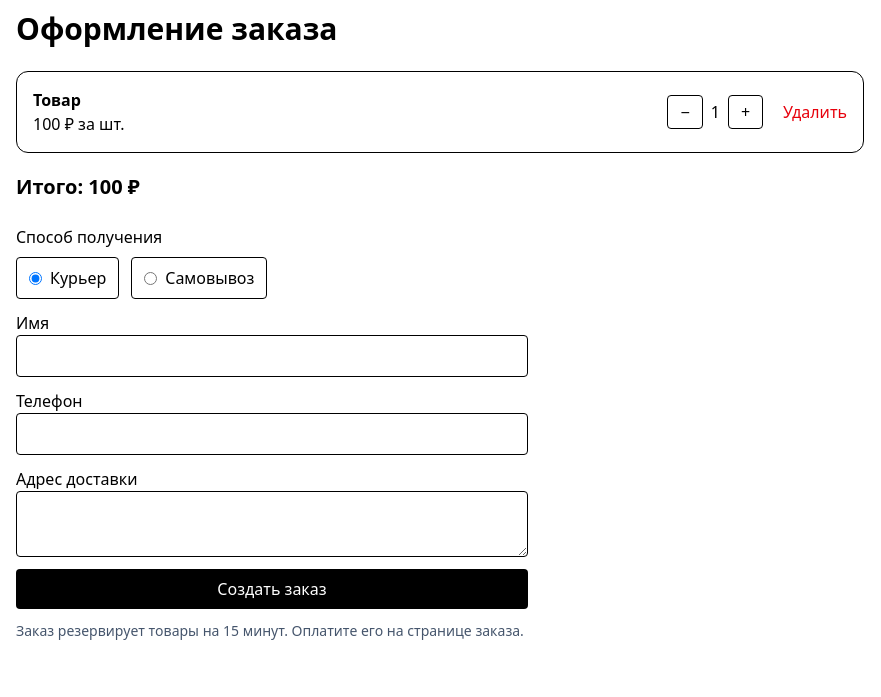
shows the API error without leaving checkout
Expected: the link "Товар" is shown, [33,89,81,111]
Type " Анна " into the field labelled "Имя".
click(272, 356); type(" Анна ")  # box [16,335,528,377]
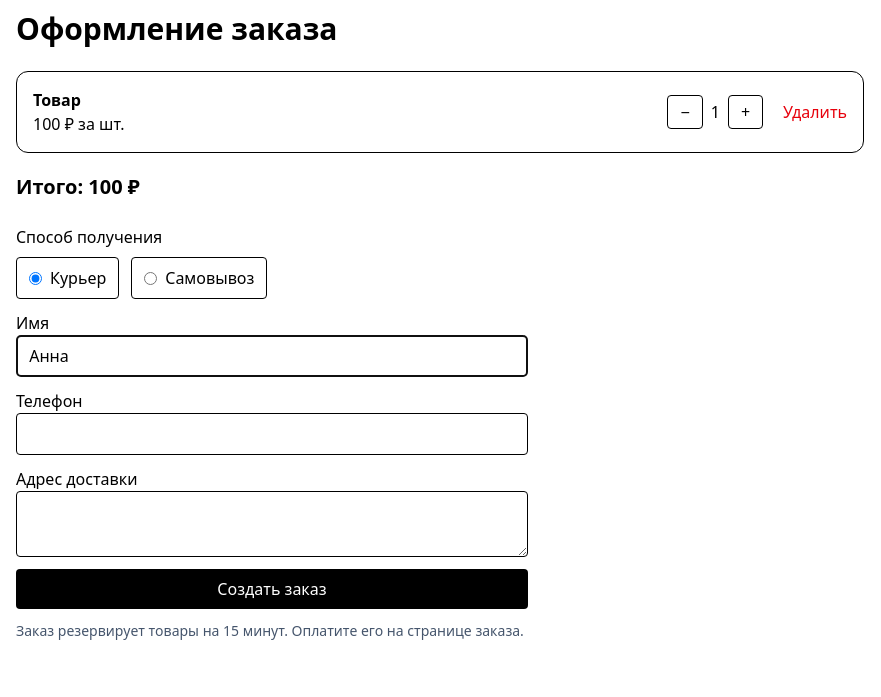
Type " +7 900 000-00-00 " into the field labelled "Телефон".
click(272, 434); type(" +7 900 000-00-00 ")  # box [16,413,528,455]
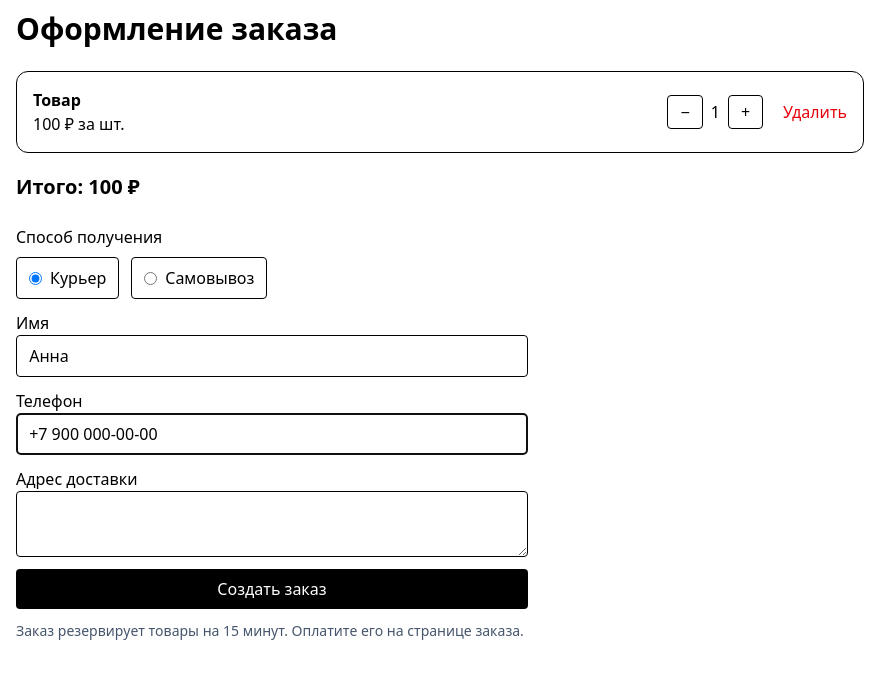
Type "Москва" into the text box labelled "Адрес доставки".
click(272, 524); type("Москва")  # box [16,491,528,557]
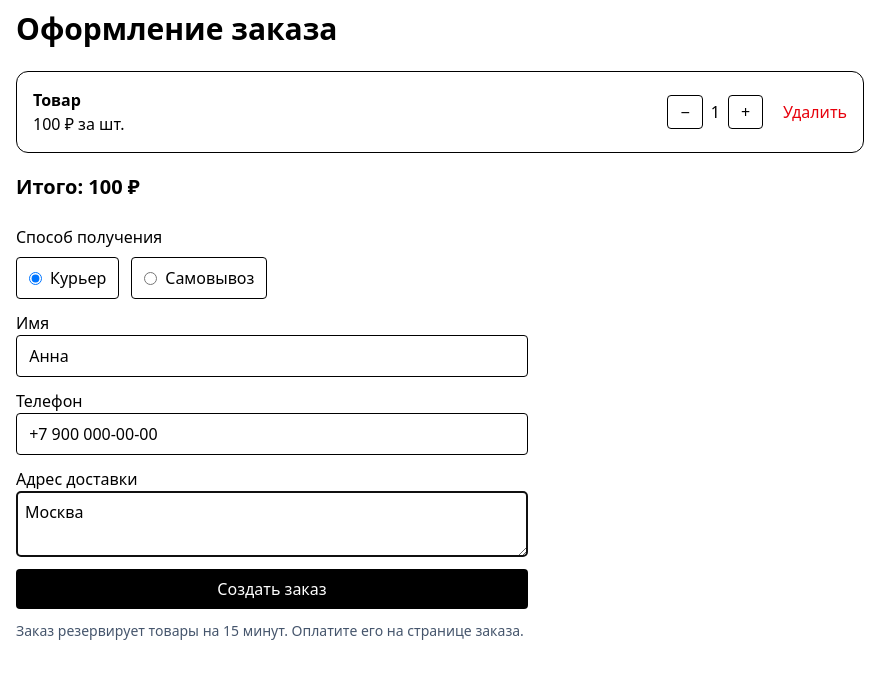
Click the button "Создать заказ".
click(272, 589)  # box [16,569,528,609]
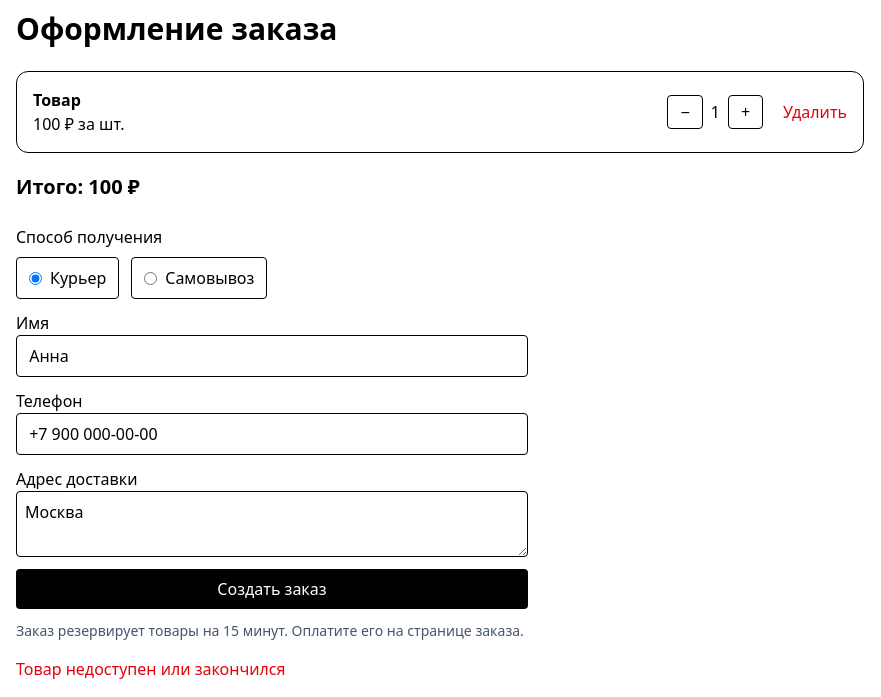
Now the message reads "Товар недоступен или закончился", box [16,658,286,680]
